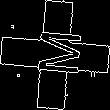M_W: (28, 30, 82, 80)
